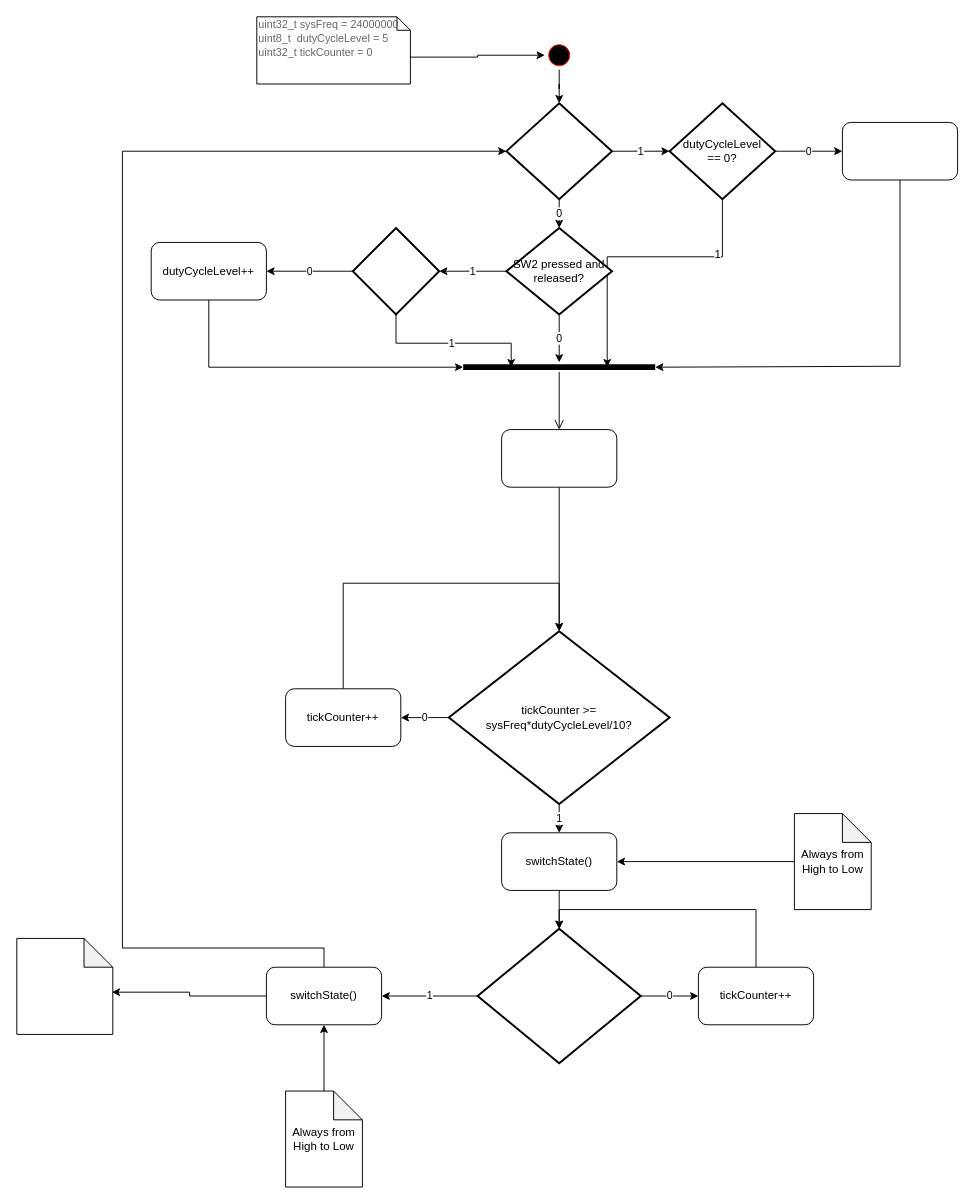
Image size: 974x1204. Some labels were removed from this diagram. The centre of each missing label's shape, as x and y in pixels:
Displays dutyCycleLevel percentage at PC via UART: pixel 64 985
dutyCycleLevel == 11?: pixel 395 271
dutyCycleLevel--: pixel 899 150
SW1 pressed and released?: pixel 558 151
tickCounter = 0: pixel 559 458
tickCounter >= sysFreq?: pixel 558 995
